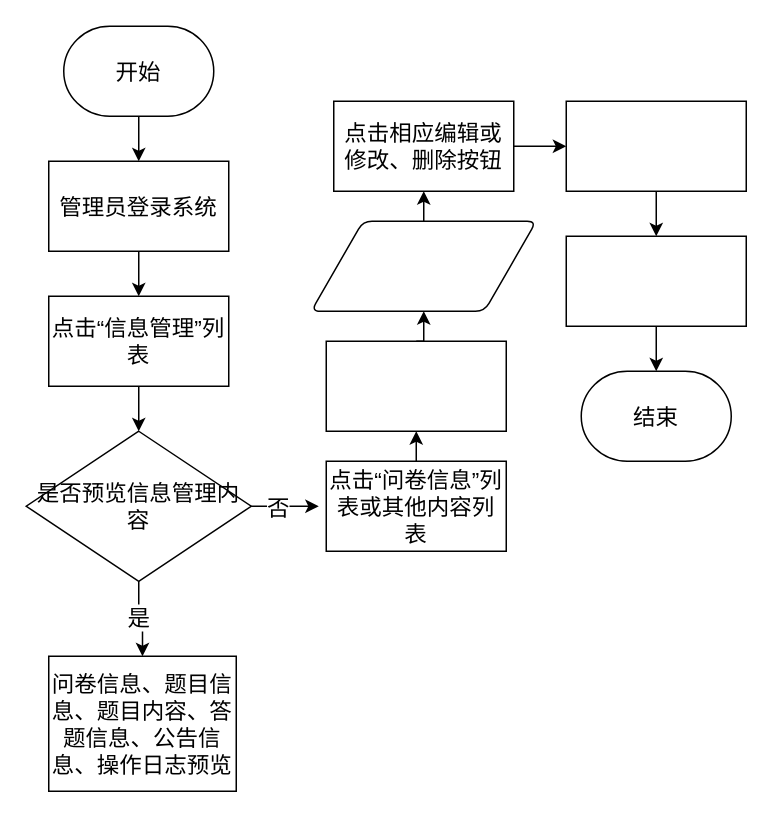
Some shapes in this 773 by 818 pixel diagram are drawn without their labels. Here are the shapes that lost their labels. From the top down, the centre of each, then its label:
At (655,145): "所操作内容提示成功消息".
At (423,265): "选择其中一个按钮".
At (655,280): "管理员查看修改后的信息".
At (415,385): "查看所点击的列表内容".
